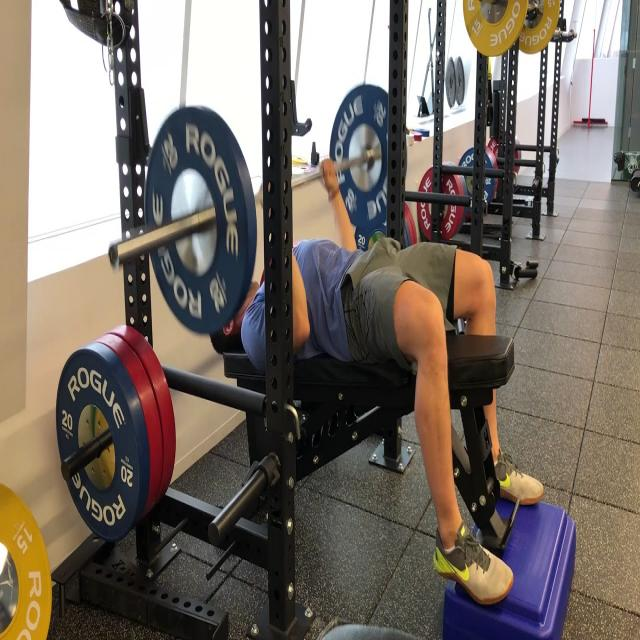bench: (105, 72, 554, 615)
